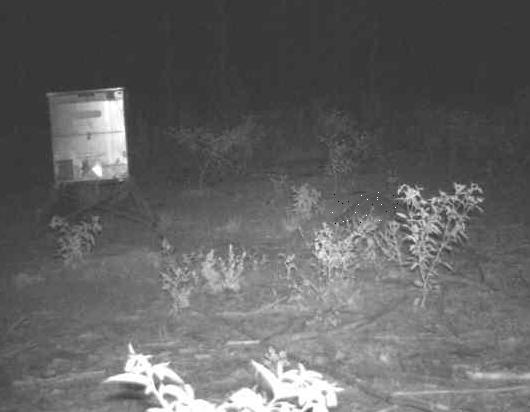Raccoon: (332, 192, 399, 227)
